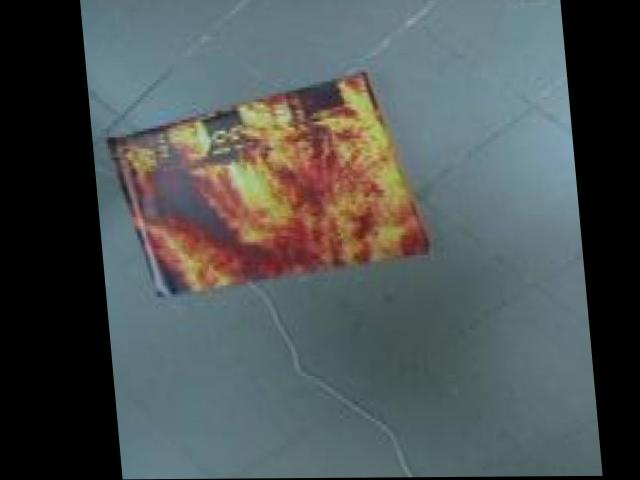fire-poster: (97, 64, 434, 302)
